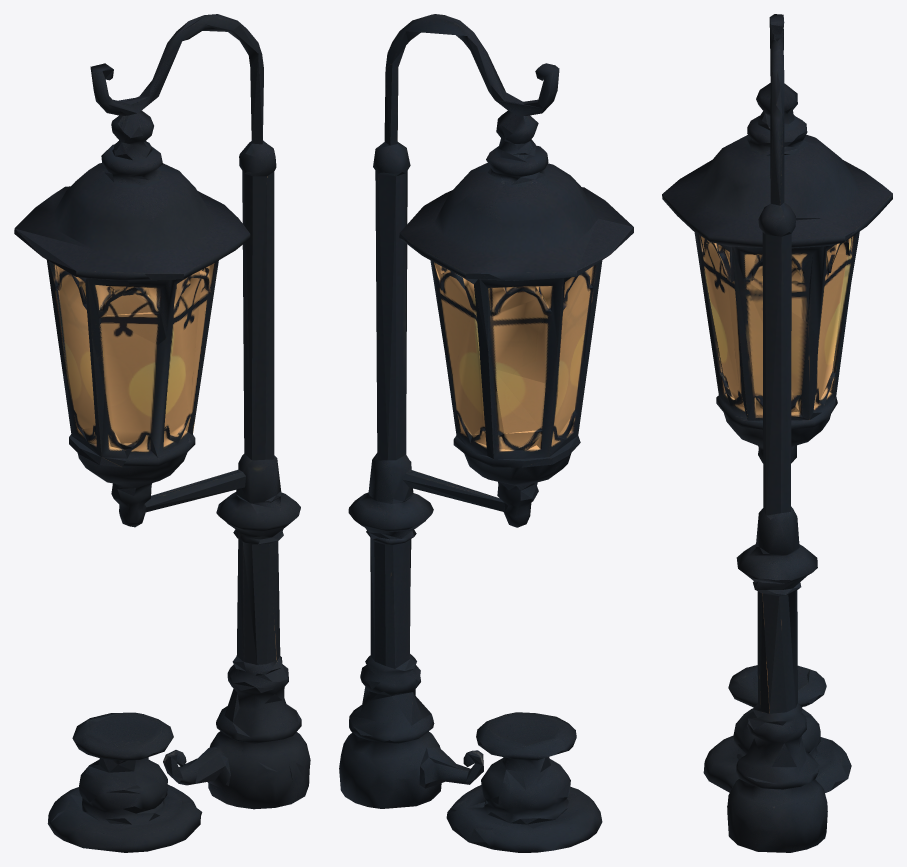
Rendered from lamppost.fbx.
3 views of the same model, side by side, from view 1: azimuth 30°, elevation 25°; view 2: azimuth 150°, elevation 25°; view 3: azimuth 270°, elevation 25° (orthographic). The views are drawn at different scales.
Visible parts, largest first — view 1: Mesh_0; view 2: Mesh_0; view 3: Mesh_0.
Boxes of the visible parts, x1,y1,x2,y2 form: Mesh_0: [14, 14, 310, 852]; Mesh_0: [339, 14, 633, 852]; Mesh_0: [662, 14, 892, 852].
Bounding box in the file's own units: 66.49 × 190 × 51.97.
Materials: 1 (1 with a texture image).
